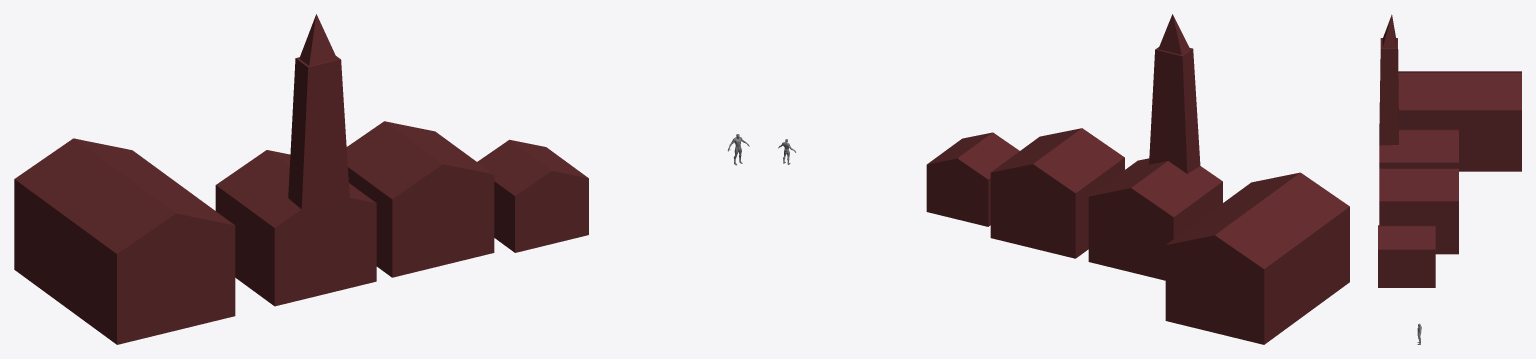
The model's file is BL_HouseL.fbx.
3 renders of one model, left to right at view 1: azimuth 30°, elevation 25°; view 2: azimuth 150°, elevation 25°; view 3: azimuth 270°, elevation 25°, orthographic. The views are drawn at different scales.
Parts seen in each view (by area): view 1: BL_HouseL, BL_Church, BL_HouseM, BL_HouseS; view 2: BL_HouseL, BL_Church, BL_HouseM, BL_HouseS; view 3: BL_HouseL, BL_HouseM, BL_Church, BL_HouseS.
Part boxes in pixels (box(x1,y1,x2,y2)): BL_HouseL: box(14, 138, 235, 344); BL_Church: box(215, 14, 376, 306); BL_HouseM: box(346, 121, 494, 277); BL_HouseS: box(477, 139, 588, 252); BL_HouseL: box(1165, 172, 1349, 344); BL_Church: box(1088, 14, 1222, 280); BL_HouseM: box(990, 128, 1124, 258); BL_HouseS: box(926, 132, 1019, 226); BL_HouseL: box(1398, 71, 1521, 171); BL_HouseM: box(1379, 167, 1458, 254); BL_Church: box(1379, 14, 1458, 167); BL_HouseS: box(1378, 225, 1435, 287).
Bounding box in the file's own units: 4273 × 1720 × 1196.
